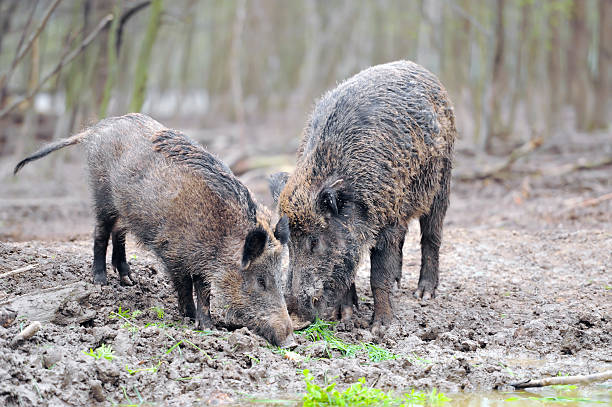pig: (275, 177, 403, 321), (173, 216, 294, 340)
